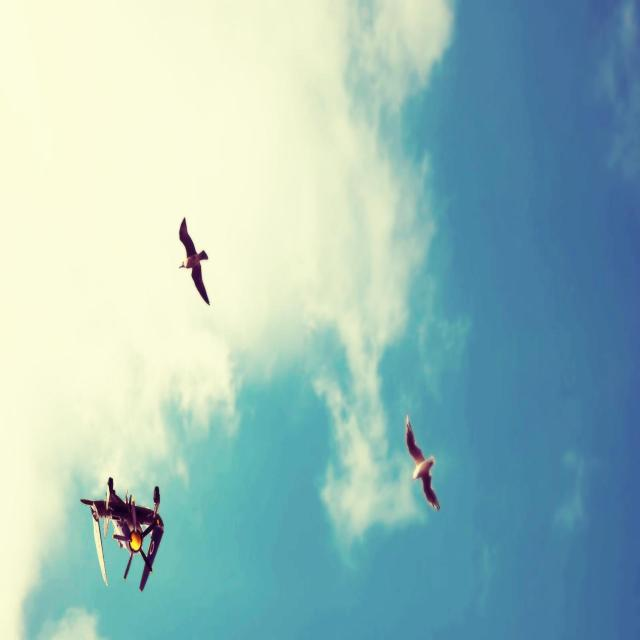airplane: (80, 476, 164, 592)
